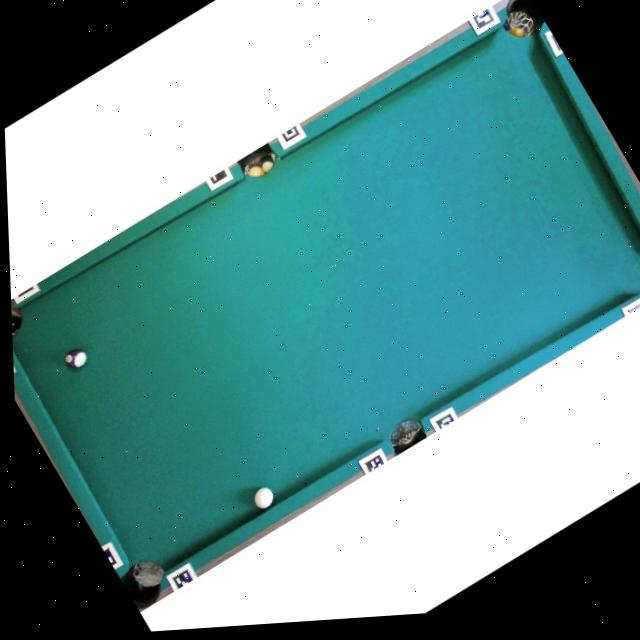cue ball: (247, 482, 279, 514)
other: (60, 342, 91, 373)
